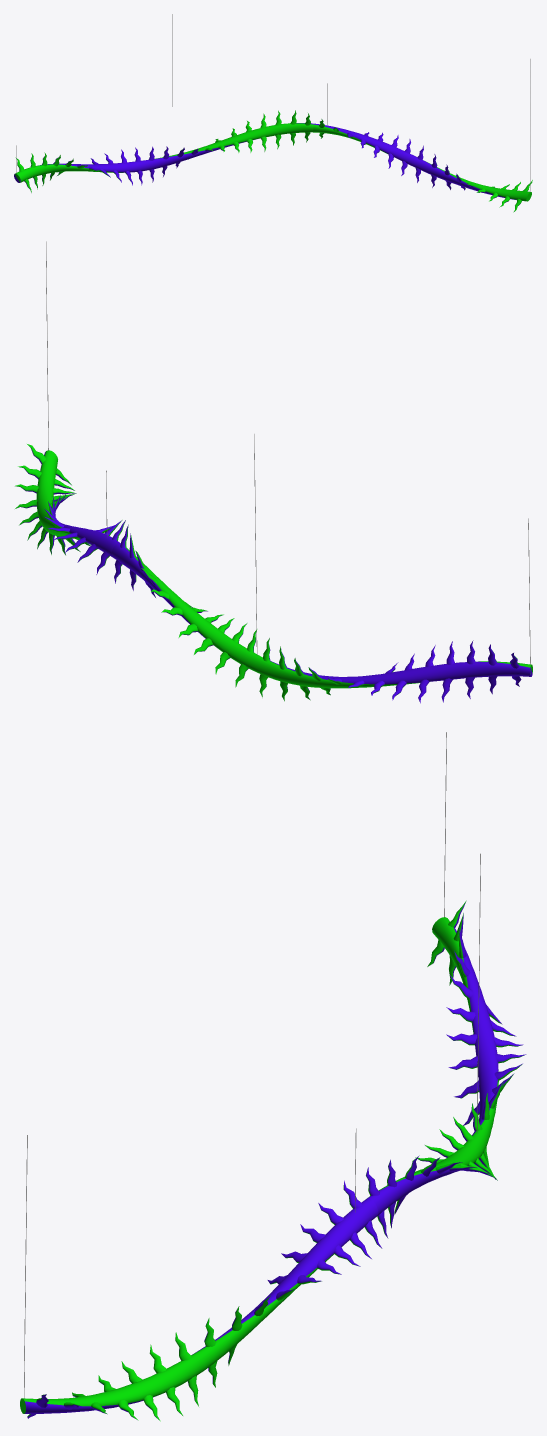
Rendered from Hanging_Spiral_BlueGreen.fbx.
3 views of the same model, one above another, from view 1: azimuth 30°, elevation 25°; view 2: azimuth 150°, elevation 25°; view 3: azimuth 270°, elevation 25° (orthographic). The views are drawn at different scales.
Parts seen in each view (by area): view 1: Hanging_Detail_Tube_Outer, Hanging_Detail_Spikes_Outer; view 2: Hanging_Detail_Tube_Outer, Hanging_Detail_Spikes_Outer; view 3: Hanging_Detail_Tube_Outer, Hanging_Detail_Spikes_Outer.
Part boxes in pixels (x1=…): Hanging_Detail_Tube_Outer: x1=15, y1=123, x2=531, y2=201; Hanging_Detail_Spikes_Outer: x1=14, y1=110, x2=532, y2=212; Hanging_Detail_Tube_Outer: x1=36, y1=450, x2=531, y2=688; Hanging_Detail_Spikes_Outer: x1=15, y1=444, x2=532, y2=703; Hanging_Detail_Tube_Outer: x1=20, y1=917, x2=498, y2=1413; Hanging_Detail_Spikes_Outer: x1=27, y1=900, x2=526, y2=1421.
Size of the model in its own units: 14.68 by 5.89 by 7.7.
